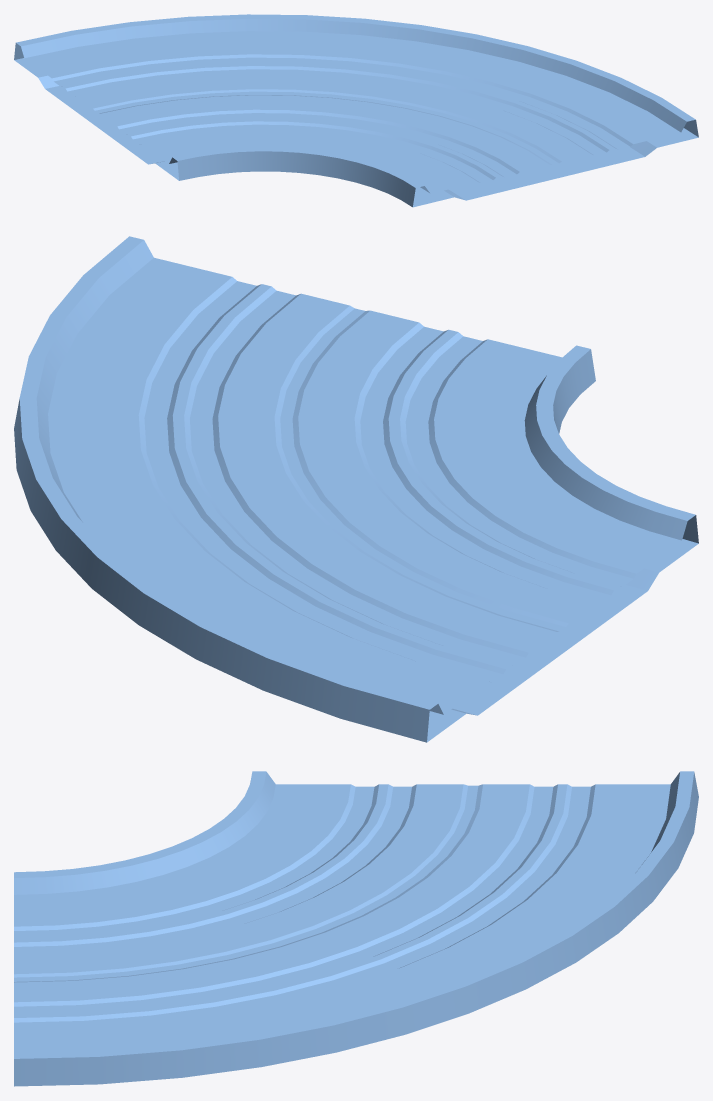
File: Race-Circuit_06.FBX
3 views of the same model, one above another, from view 1: azimuth 30°, elevation 25°; view 2: azimuth 150°, elevation 25°; view 3: azimuth 270°, elevation 25° (orthographic). The views are drawn at different scales.
Parts seen in each view (by area): view 1: Race-Circuit_06; view 2: Race-Circuit_06; view 3: Race-Circuit_06.
Boxes of the visible parts, x1=… form: Race-Circuit_06: x1=14, y1=14, x2=698, y2=207; Race-Circuit_06: x1=14, y1=236, x2=698, y2=742; Race-Circuit_06: x1=14, y1=771, x2=698, y2=1086.
Bounding box in the file's own units: 1458 × 80.22 × 1458.
